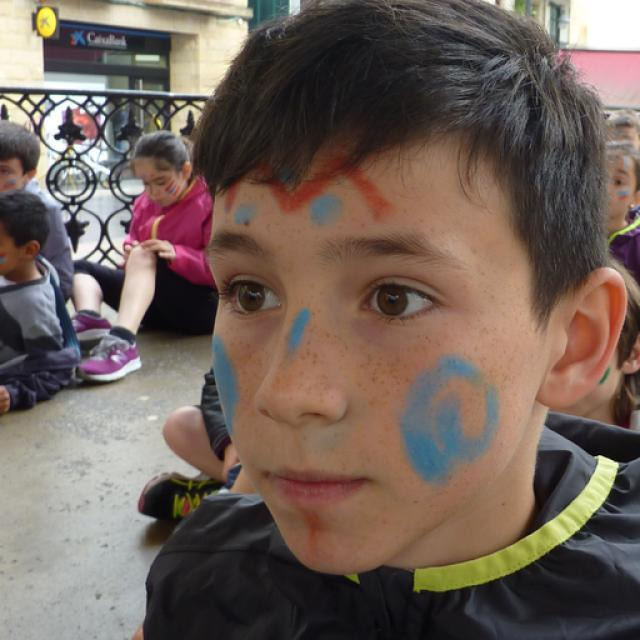neutral: (213, 138, 548, 572)
